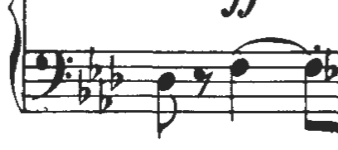bass_clef: (30, 47, 75, 100)
flat: (85, 39, 105, 88), (95, 75, 116, 121), (106, 49, 127, 95), (73, 69, 94, 110)
